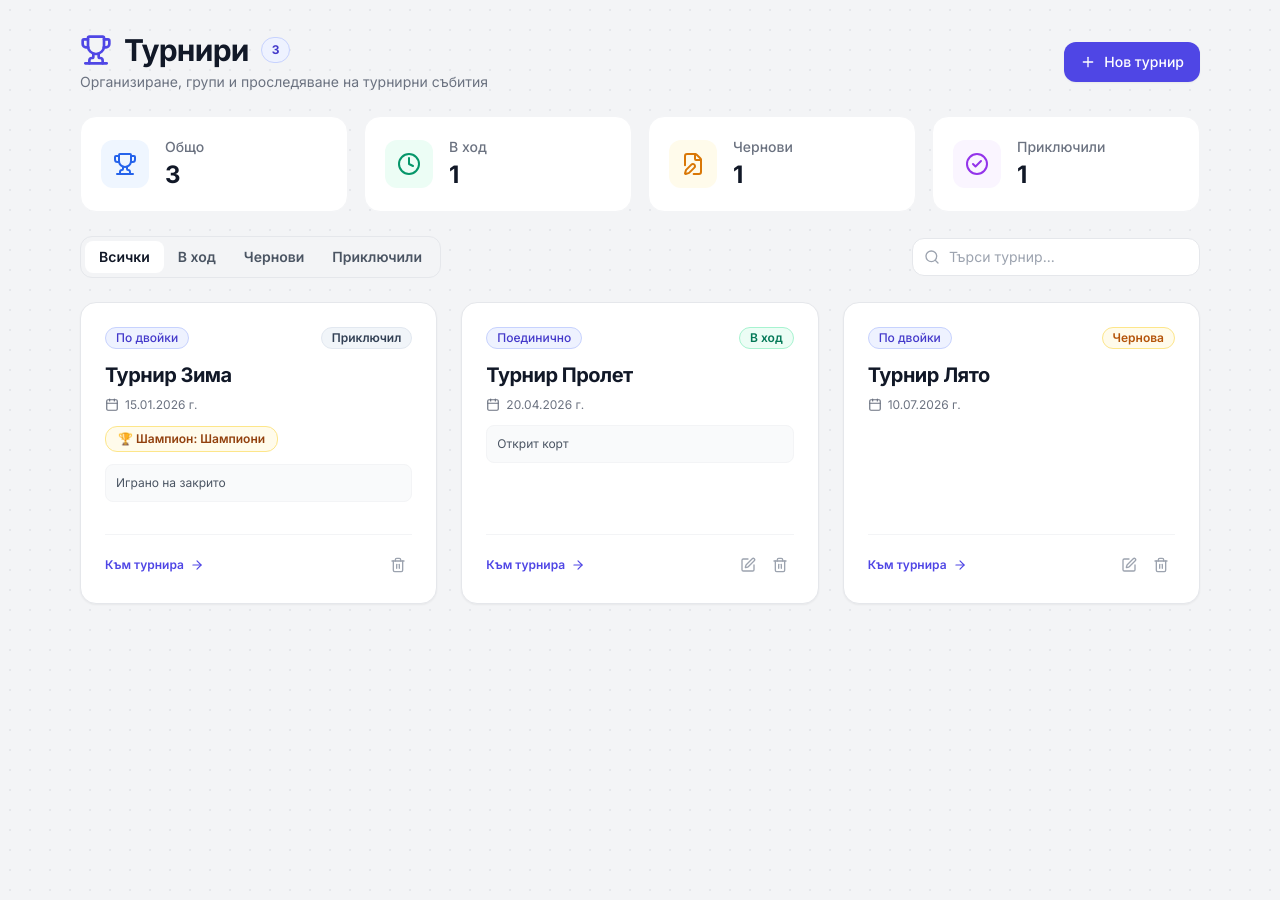
Test case: TournamentsPage › filters tournaments by search input on title and notes
# Search by title
Type "Пролет" into the field with placeholder "Търси турнир..." at (1056, 257), box [912,238,1200,276]
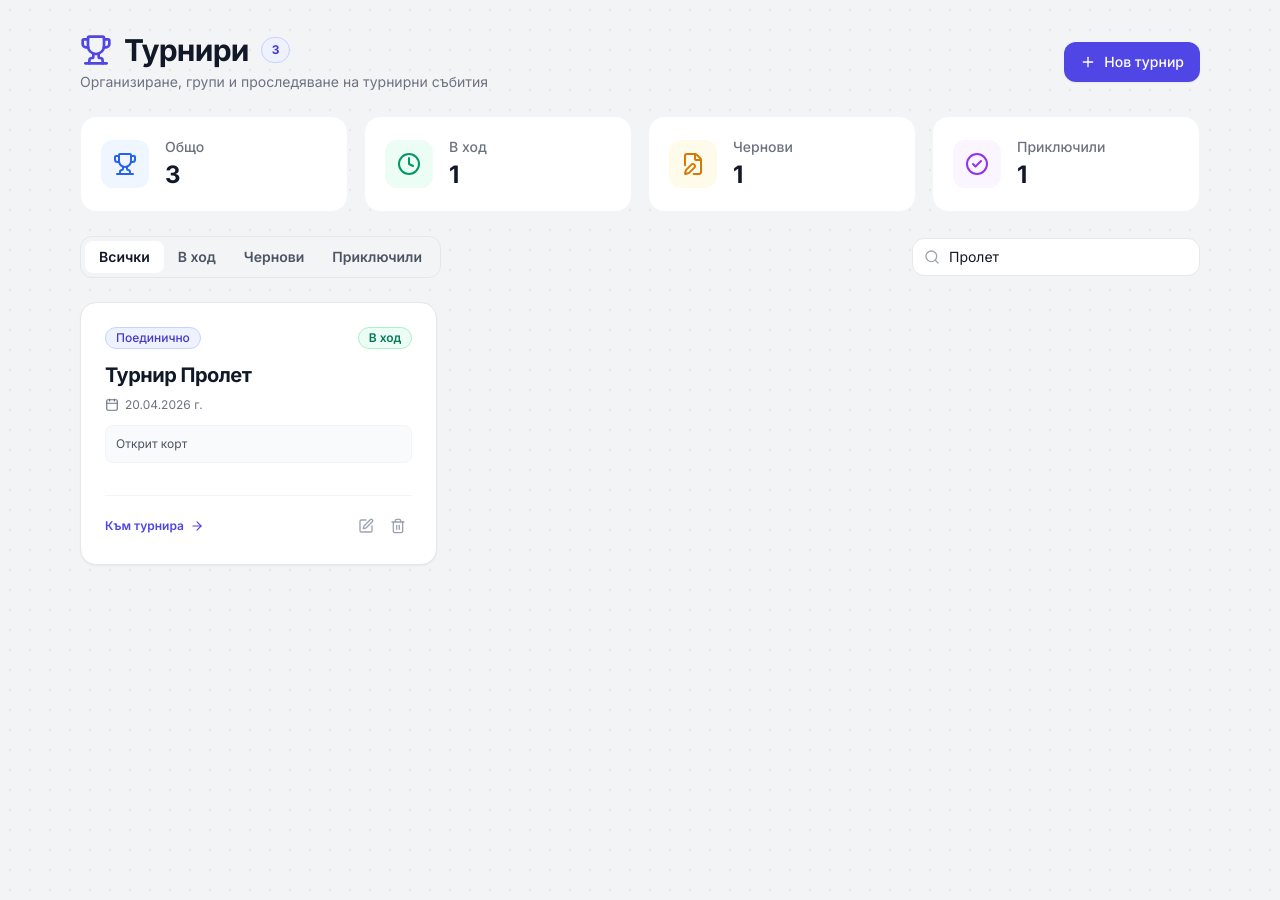
Expected: the heading "Турнир Пролет" is shown, [105,363,252,387]
Expected: the heading "Турнир Зима" is gone
# Search by notes
Replace the text in the field with placeholder "Търси турнир..." with "закрито" at (1056, 257), box [912,238,1200,276]
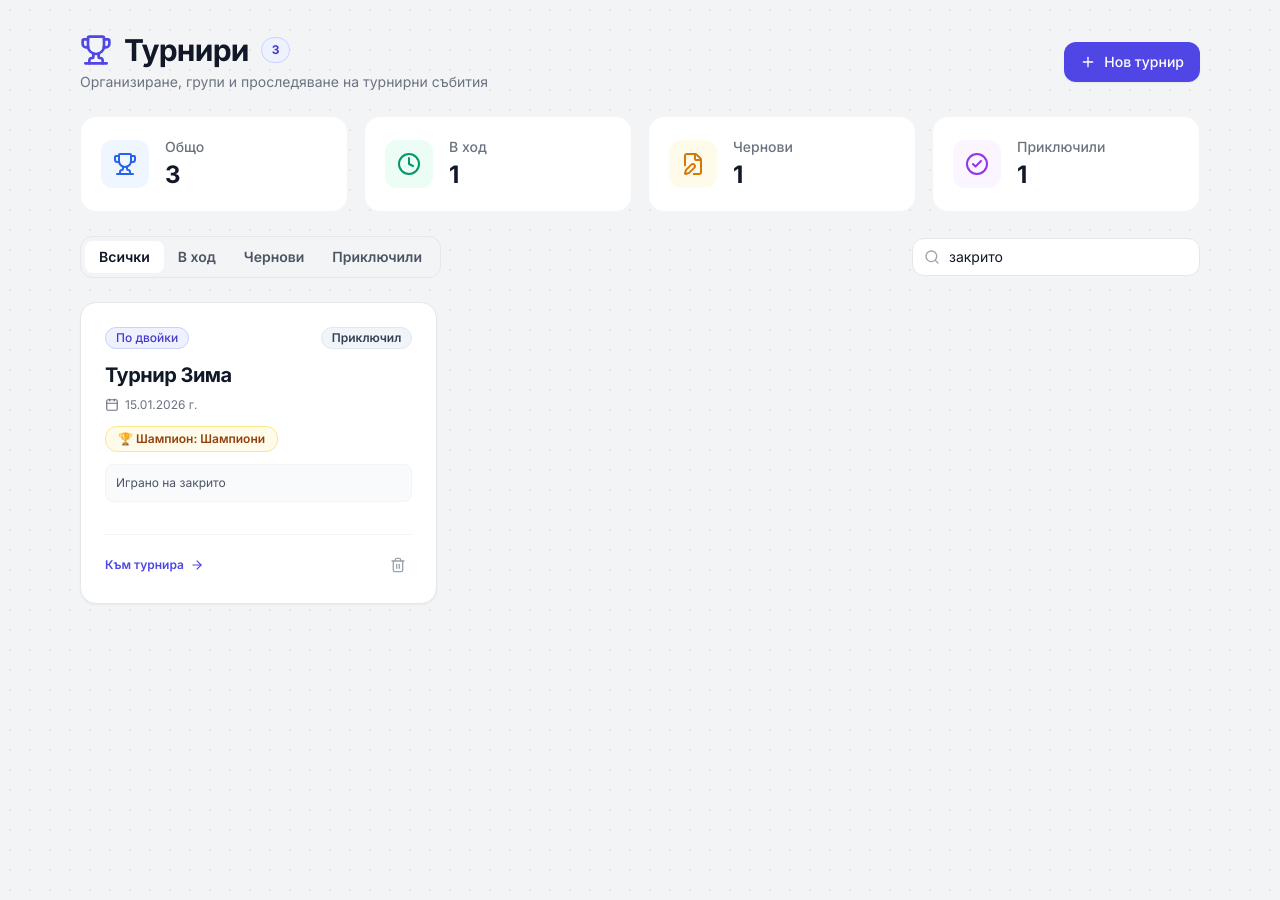
Expected: the heading "Турнир Зима" is shown, [105,363,232,387]
Expected: the heading "Турнир Пролет" is gone
